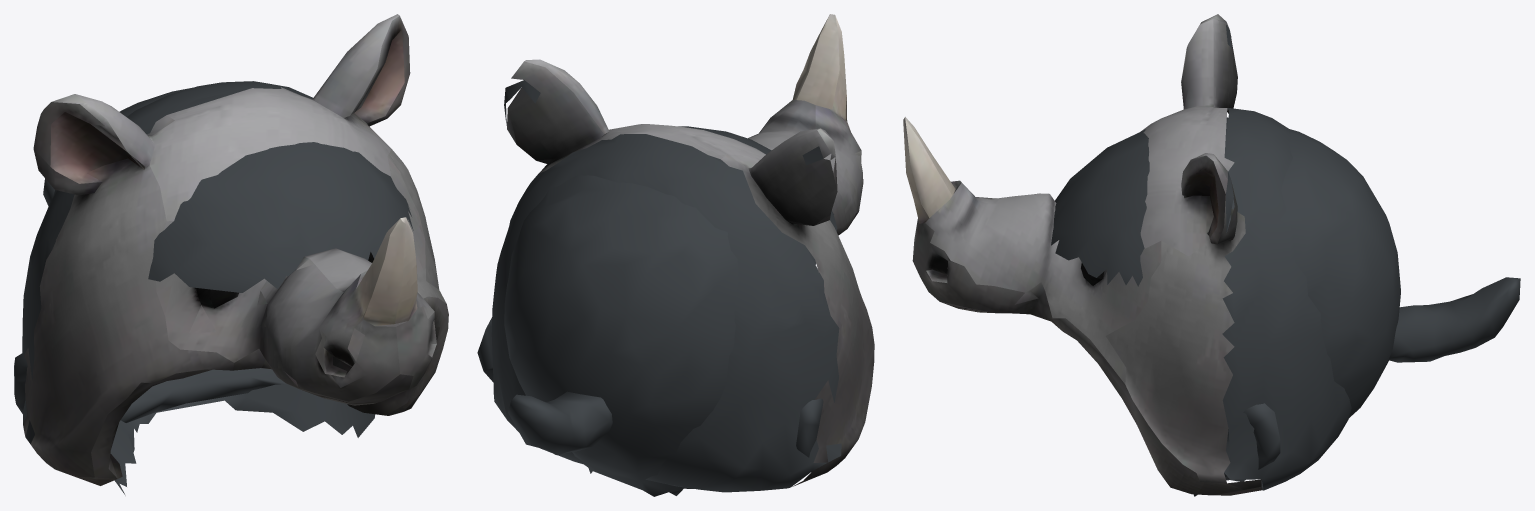
File: rhino.glb
3 renders of one model, left to right at view 1: azimuth 30°, elevation 25°; view 2: azimuth 150°, elevation 25°; view 3: azimuth 270°, elevation 25°, orthographic. The views are drawn at different scales.
Parts seen in each view (by area): view 1: geometry_0, HoodAnatomicalLining; view 2: geometry_0, HoodAnatomicalLining; view 3: geometry_0, HoodAnatomicalLining.
Part boxes in pixels (x1,y1,x2,y2): geometry_0: [22, 14, 448, 485]; HoodAnatomicalLining: [14, 87, 413, 495]; geometry_0: [491, 14, 874, 492]; HoodAnatomicalLining: [477, 126, 837, 496]; geometry_0: [903, 14, 1520, 495]; HoodAnatomicalLining: [1051, 117, 1400, 496].
Size of the model in its own units: 0.4865 by 0.483 by 0.7515.
Materials: 2 (1 with a texture image).
